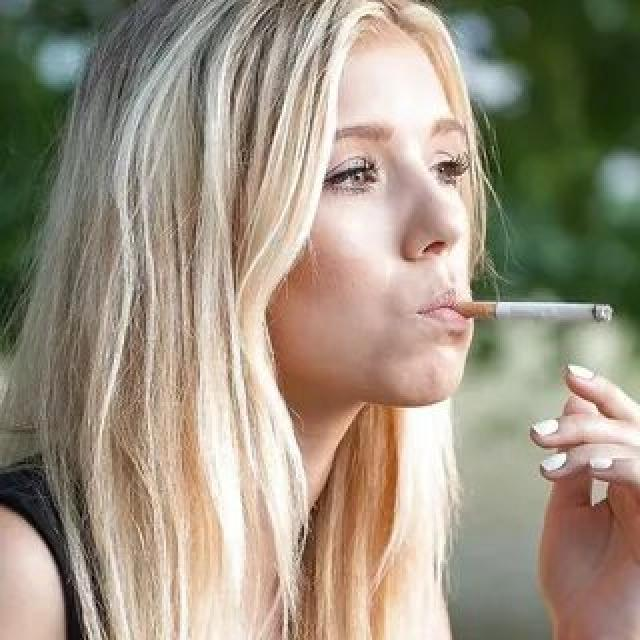cigarette: (440, 296, 624, 322)
